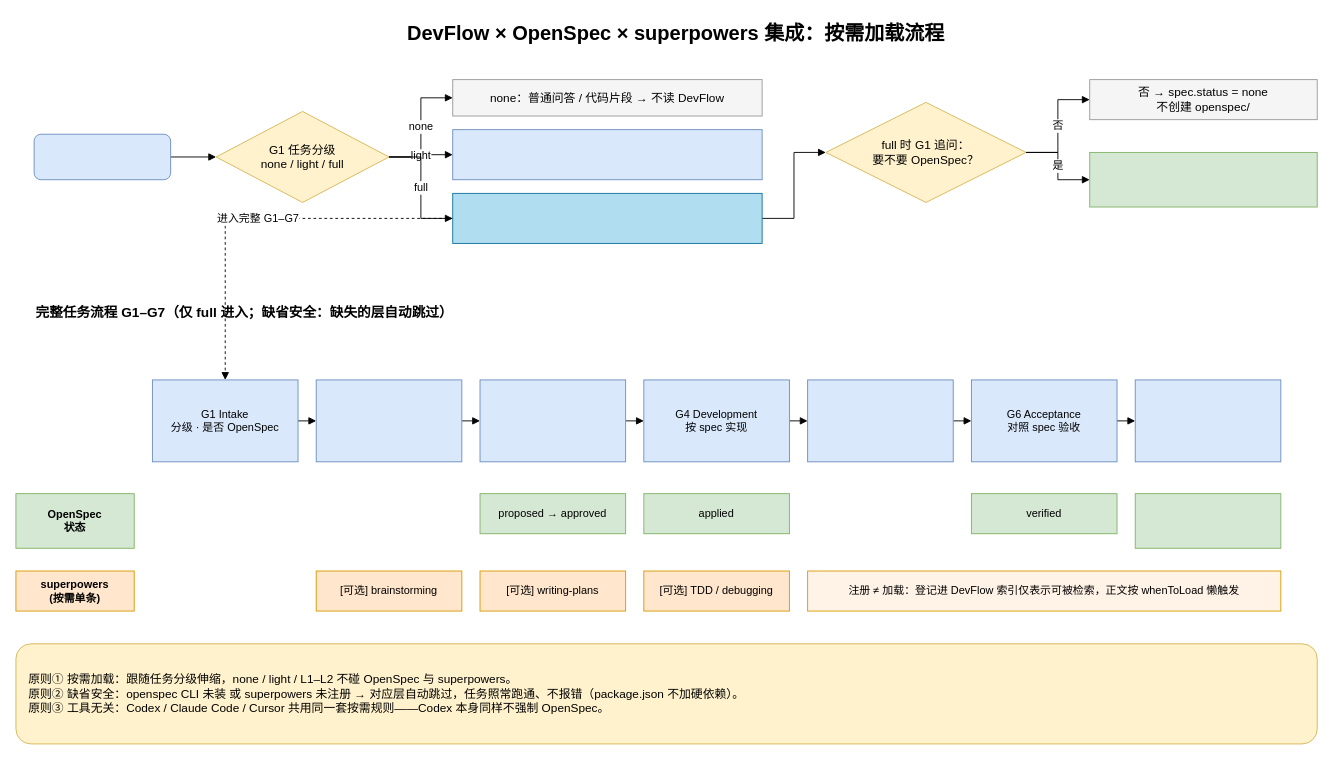
Some shapes in this 1333 by 760 pixel diagram are drawn without their labels. Each missing label, with the centre of its shape:
"archived 合并回 openspec/specs/" belongs at (1207,520).
"full / L3–L4 / 规格输入 / 跨项目 / 高风险" belongs at (607,217).
"G2 Discovery 调研 · 证据" belongs at (388,420).
"G3 Plan / Spec 方案 / proposal" belongs at (552,420).
"G5 Integration 联调 · 环境" belongs at (880,420).
"G7 Run / Archive 打包 · archive" belongs at (1207,420).
"light / L1–L2：轻量任务追踪 OpenSpec 跳过 · superpowers 一般不拉" belongs at (607,154).
"是 → 启用 spec 指针（轻绑定） 存 change id / path / status" belongs at (1203,179).
"用户请求" belongs at (102,156).
